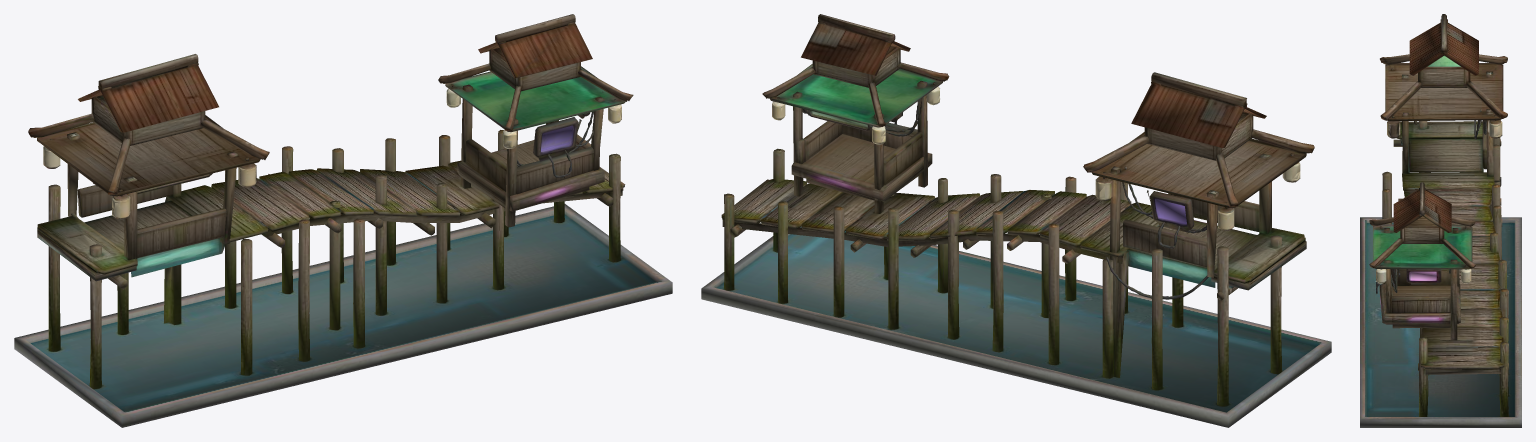
File: lm_u_bein.glb
The picture shows the model from 3 angles, left to right: view 1: azimuth 30°, elevation 25°; view 2: azimuth 150°, elevation 25°; view 3: azimuth 270°, elevation 25°; orthographic projection. The views are drawn at different scales.
Visible parts, largest first — view 1: Body, Trim; view 2: Body, Trim; view 3: Body, Trim.
Boxes of the visible parts, x1,y1,x2,y2 form: Body: (14, 14, 672, 427); Trim: (43, 88, 621, 217); Body: (701, 14, 1331, 427); Trim: (772, 88, 1299, 229); Body: (1360, 14, 1521, 427); Trim: (1376, 122, 1502, 283).
Bounding box in the file's own units: 8.86 × 4.63 × 3.
Materials: 2 (2 with a texture image).
